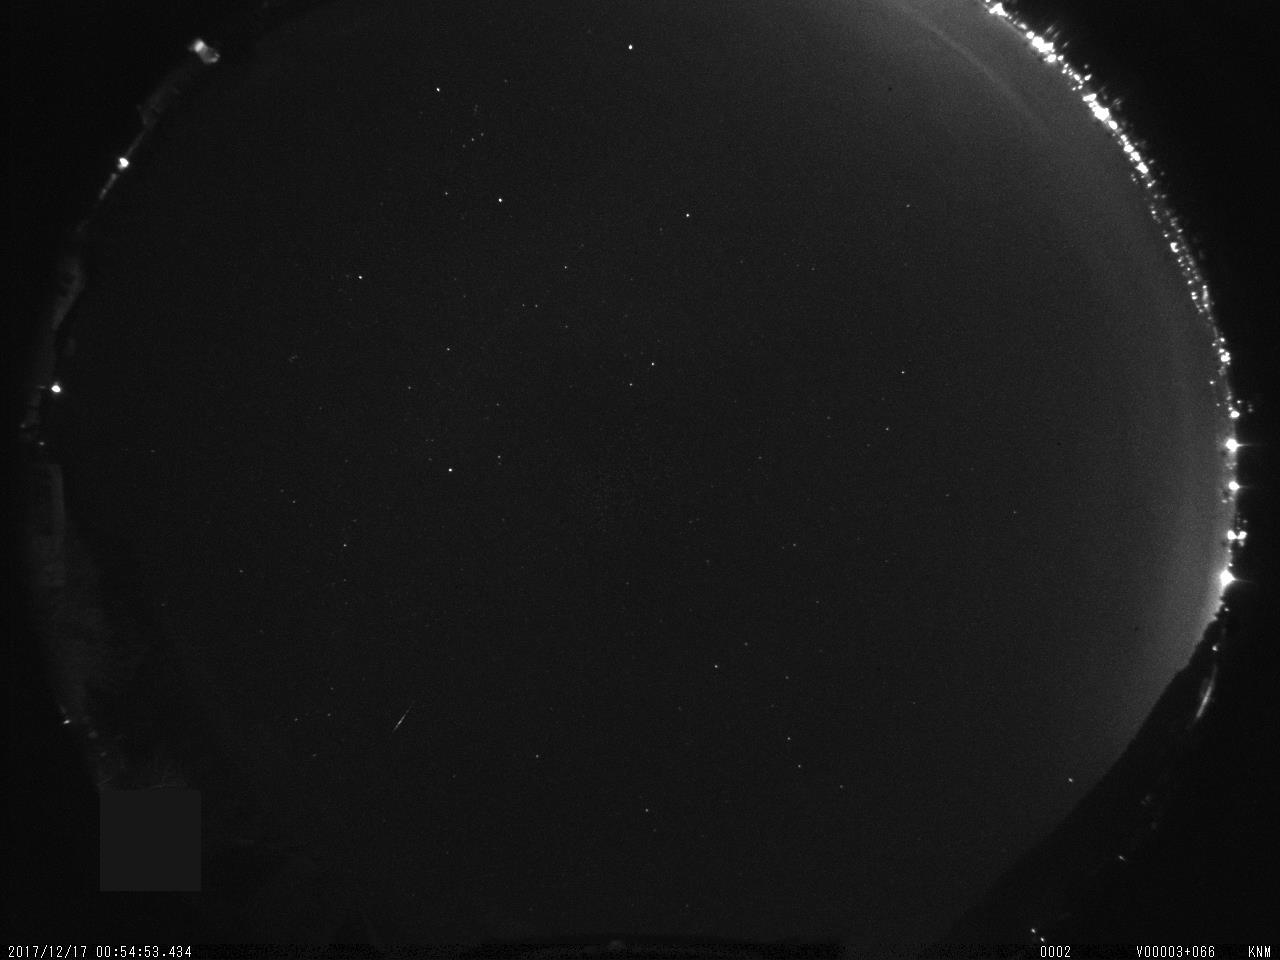meteor: (388, 699, 421, 736)
